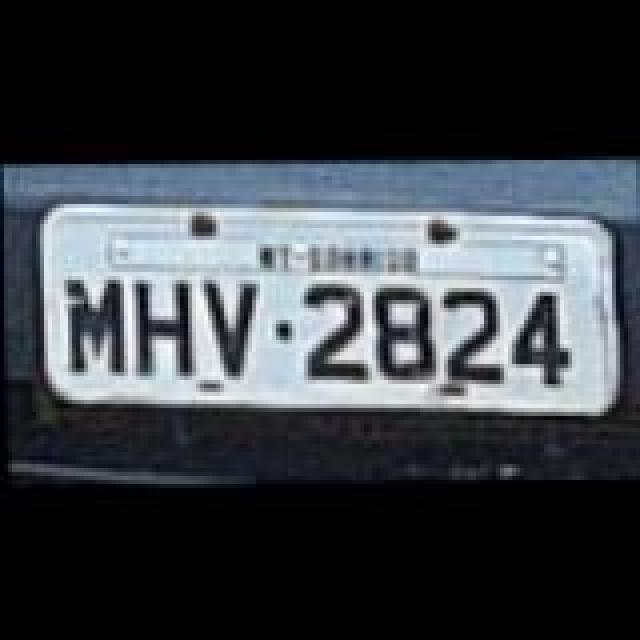2: (306, 284, 366, 384), (442, 288, 502, 384)
4: (518, 290, 570, 390)
8: (374, 284, 434, 380)
H: (134, 280, 194, 380)
M: (68, 278, 124, 378)
V: (204, 282, 260, 382)
